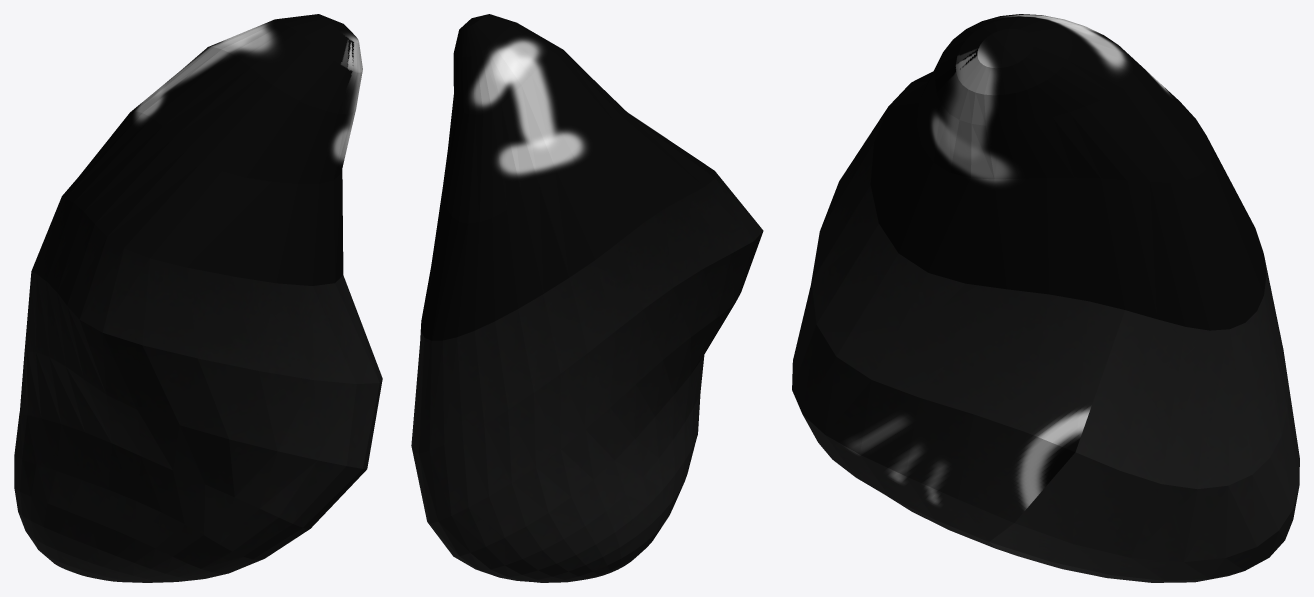
The model's file is mango_weird.dae.
3 renders of one model, left to right at view 1: azimuth 30°, elevation 25°; view 2: azimuth 150°, elevation 25°; view 3: azimuth 270°, elevation 25°, orthographic. The views are drawn at different scales.
Visible parts, largest first — view 1: Sphere; view 2: Sphere; view 3: Sphere.
Part boxes in pixels (x1,y1,x2,y2): Sphere: [14, 14, 382, 582]; Sphere: [411, 14, 763, 582]; Sphere: [792, 14, 1299, 582].
Size of the model in its own units: 3.27 by 4.21 by 5.64.
